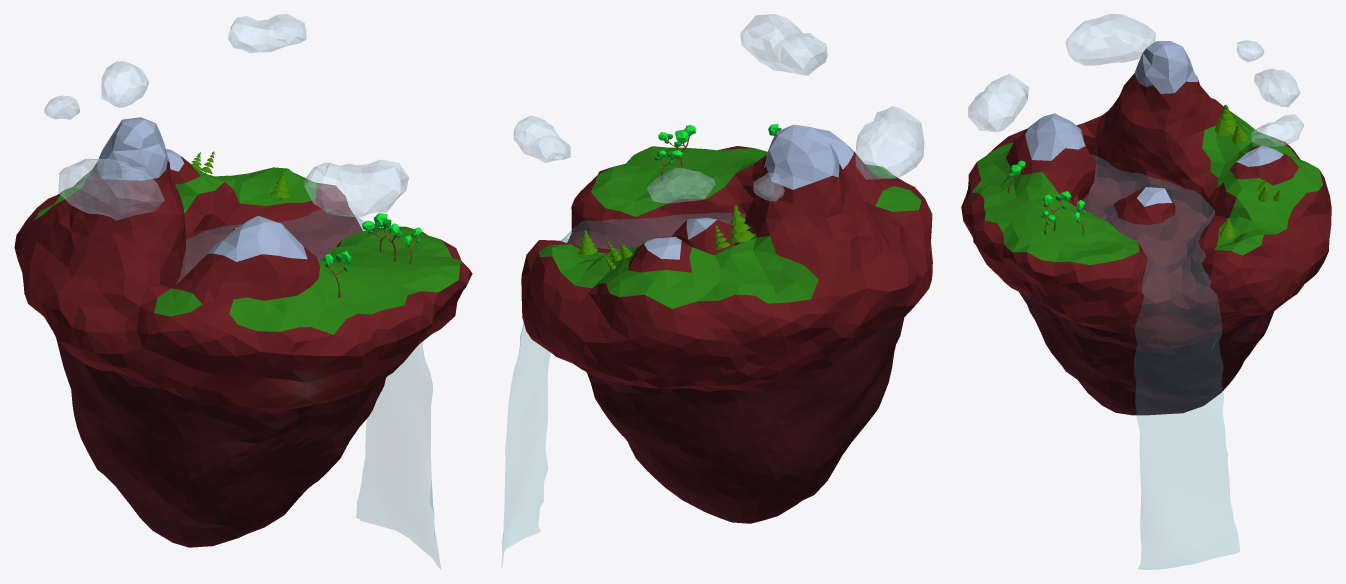
The model's file is island_in_the_sky.glb.
The picture shows the model from 3 angles, left to right: view 1: azimuth 30°, elevation 25°; view 2: azimuth 150°, elevation 25°; view 3: azimuth 270°, elevation 25°; orthographic projection. The views are drawn at different scales.
Parts seen in each view (by area): view 1: Isle_0, Water_1, Cloud.000_12, Cloud.001_13, Cloud.004_15, Cloud.003_14, Cloud.005_16; view 2: Isle_0, Water_1, Cloud.000_12, Cloud.001_13, Cloud.003_14, Cloud.004_15, Cloud.005_16, Spurce.000_3; view 3: Isle_0, Water_1, Cloud.000_12, Cloud.001_13, Cloud.003_14, Cloud.004_15, Cloud.005_16.
Part boxes in pixels (x1,y1,x2,y2): Isle_0: [14, 117, 472, 547]; Water_1: [177, 209, 440, 568]; Cloud.000_12: [58, 158, 164, 220]; Cloud.001_13: [304, 159, 408, 217]; Cloud.004_15: [228, 14, 306, 52]; Cloud.003_14: [101, 61, 148, 107]; Cloud.005_16: [44, 95, 79, 119]; Isle_0: [521, 124, 932, 523]; Water_1: [501, 212, 745, 567]; Cloud.000_12: [855, 106, 924, 179]; Cloud.001_13: [740, 14, 827, 75]; Cloud.003_14: [647, 167, 715, 203]; Cloud.004_15: [513, 115, 570, 162]; Cloud.005_16: [753, 172, 784, 201]; Spurce.000_3: [728, 205, 755, 243]; Isle_0: [961, 41, 1331, 415]; Water_1: [1082, 155, 1239, 569]; Cloud.000_12: [1065, 14, 1155, 65]; Cloud.001_13: [968, 74, 1028, 132]; Cloud.003_14: [1254, 68, 1300, 107]; Cloud.004_15: [1251, 114, 1303, 146]; Cloud.005_16: [1237, 40, 1264, 62].
Bounding box in the file's own units: 31.96 × 39.25 × 31.62.
